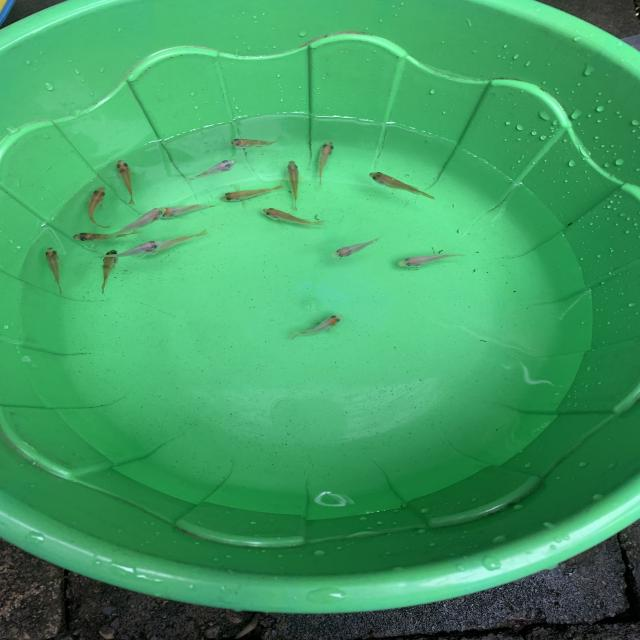nila: (363, 167, 442, 203), (137, 228, 214, 264), (108, 203, 172, 239), (180, 154, 249, 184), (394, 247, 470, 272), (287, 310, 349, 340), (91, 242, 124, 298), (218, 181, 296, 204), (38, 241, 69, 297), (156, 199, 222, 225), (260, 204, 331, 227), (96, 240, 170, 262), (331, 235, 389, 260), (114, 157, 142, 207), (314, 139, 344, 185), (66, 227, 144, 242), (284, 154, 306, 207), (85, 184, 109, 226), (228, 138, 284, 152)
